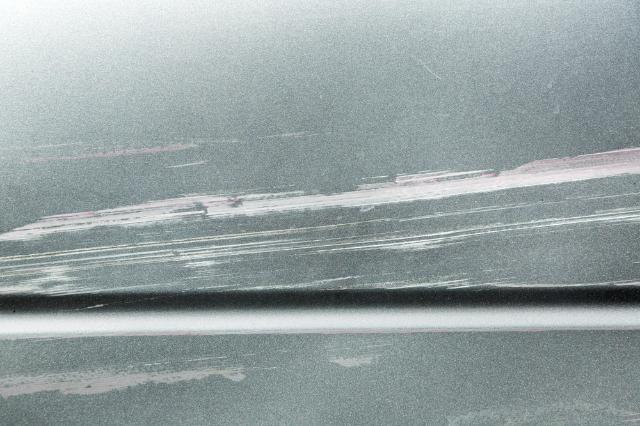scratch: (0, 143, 640, 301), (0, 338, 407, 406), (0, 125, 345, 173)
